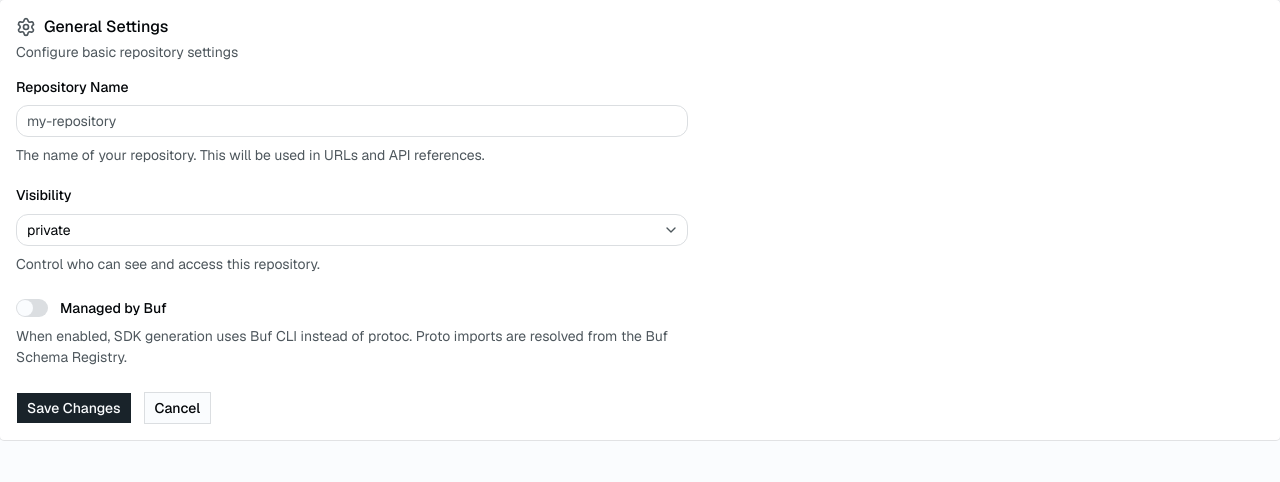
Test case: RepositorySettingsForm › Form Validation - Repository Name › shows error when repository name contains invalid characters
Type "invalid name!" into the field labelled "Repository Name". click: (352, 121)
box: [16, 105, 688, 137]
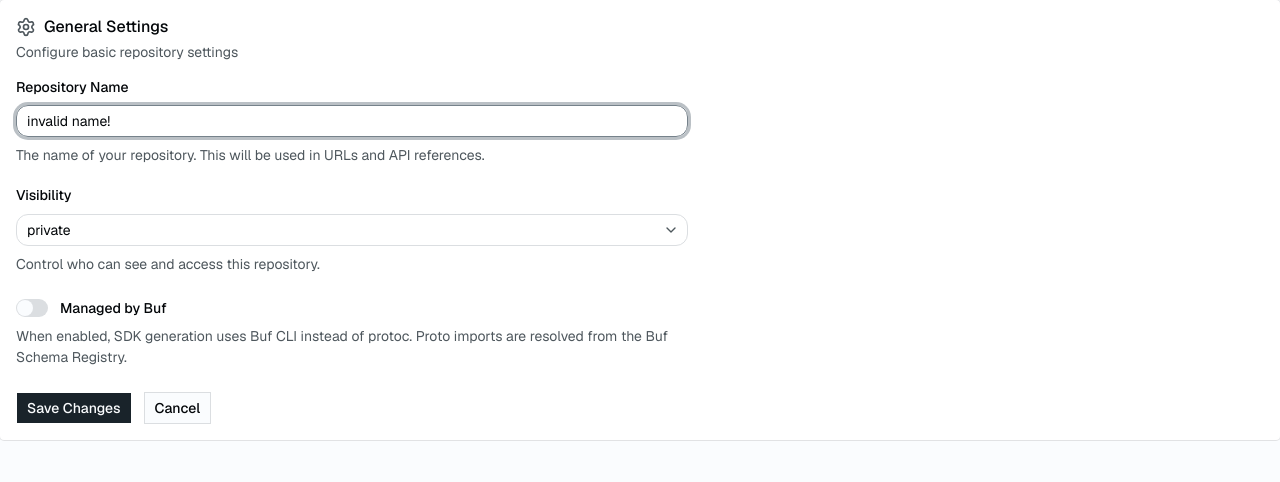
Click the button "Save Changes". click: (74, 408)
box: [16, 392, 132, 424]
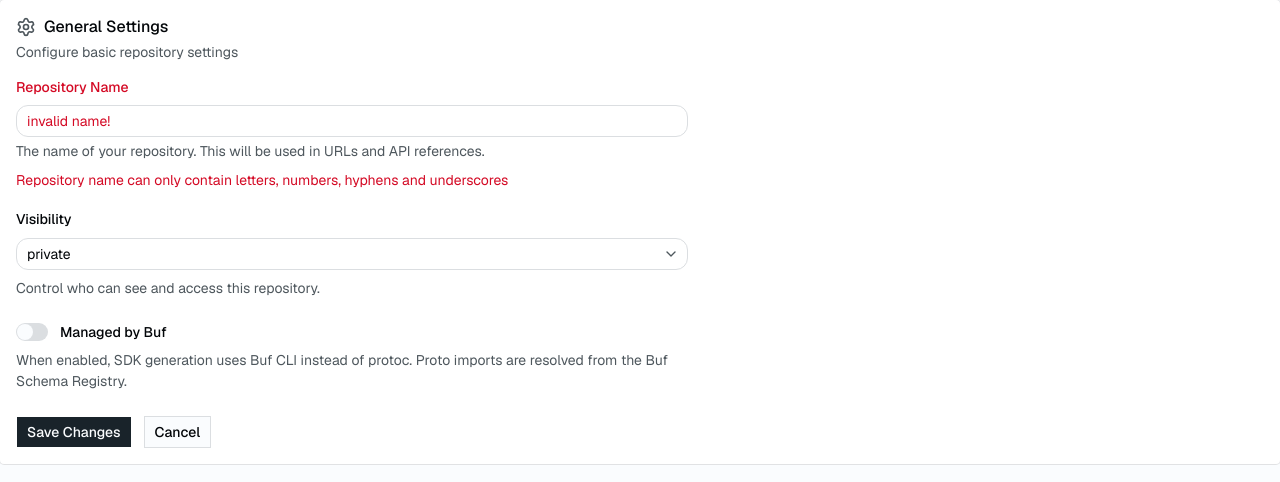
expect the text "Repository name can only contain letters, numbers, hyphens and underscores" is shown: met, box [16, 171, 508, 189]
